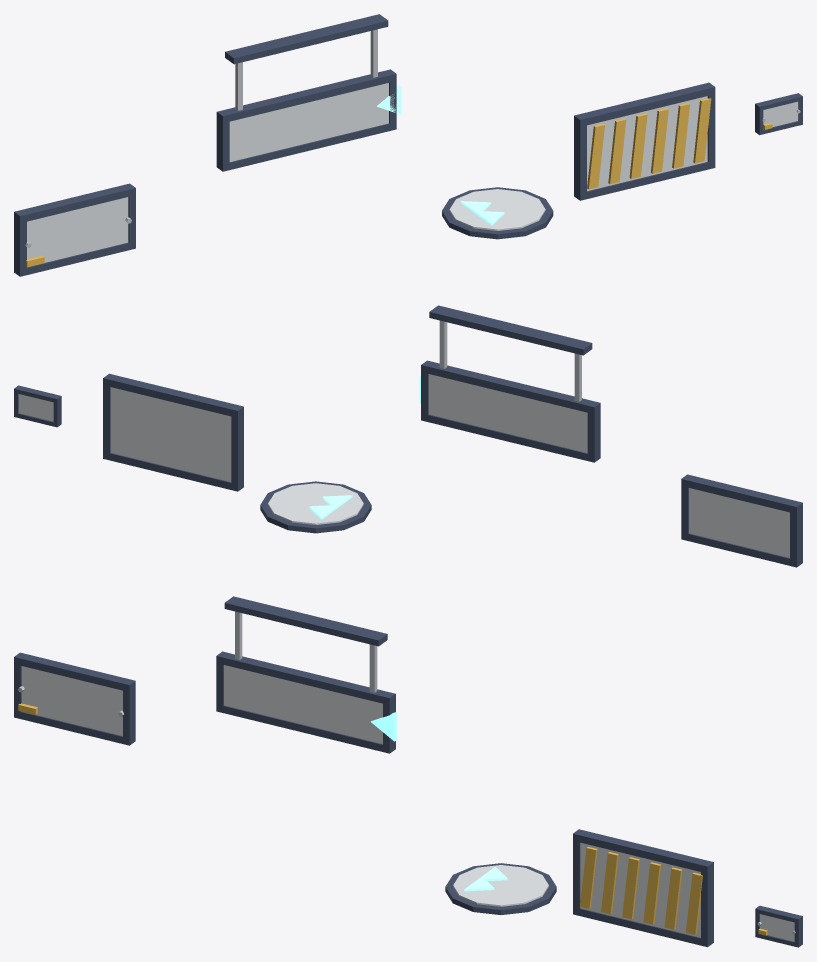
The picture shows the model from 3 angles, top to bottom: view 1: azimuth 30°, elevation 25°; view 2: azimuth 150°, elevation 25°; view 3: azimuth 330°, elevation 25°; orthographic projection.
Visible parts, largest first — view 1: DL017_SignageKit_hull_offwhite, DL017_SignageKit_graphite_navy, DL017_SignageKit_amber_accent, DL017_SignageKit_titanium, DL017_SignageKit_emissive_cyan; view 2: DL017_SignageKit_hull_offwhite, DL017_SignageKit_graphite_navy, DL017_SignageKit_titanium, DL017_SignageKit_emissive_cyan; view 3: DL017_SignageKit_hull_offwhite, DL017_SignageKit_graphite_navy, DL017_SignageKit_amber_accent, DL017_SignageKit_emissive_cyan, DL017_SignageKit_titanium.
Boxes of the visible parts, left/top/right/bottom form: DL017_SignageKit_hull_offwhite: left=27, top=83, right=798, bottom=262; DL017_SignageKit_graphite_navy: left=14, top=14, right=802, bottom=276; DL017_SignageKit_amber_accent: left=26, top=98, right=772, bottom=267; DL017_SignageKit_titanium: left=25, top=29, right=800, bottom=247; DL017_SignageKit_emissive_cyan: left=377, top=85, right=504, bottom=225; DL017_SignageKit_hull_offwhite: left=18, top=374, right=789, bottom=557; DL017_SignageKit_graphite_navy: left=14, top=305, right=802, bottom=567; DL017_SignageKit_titanium: left=439, top=320, right=581, bottom=401; DL017_SignageKit_emissive_cyan: left=309, top=375, right=420, bottom=519; DL017_SignageKit_hull_offwhite: left=21, top=665, right=794, bottom=941; DL017_SignageKit_graphite_navy: left=14, top=596, right=802, bottom=947; DL017_SignageKit_amber_accent: left=18, top=703, right=767, bottom=935; DL017_SignageKit_emissive_cyan: left=371, top=712, right=507, bottom=891; DL017_SignageKit_titanium: left=18, top=611, right=795, bottom=934.
Bounding box in the file's own units: 8.12 × 2.26 × 1.
